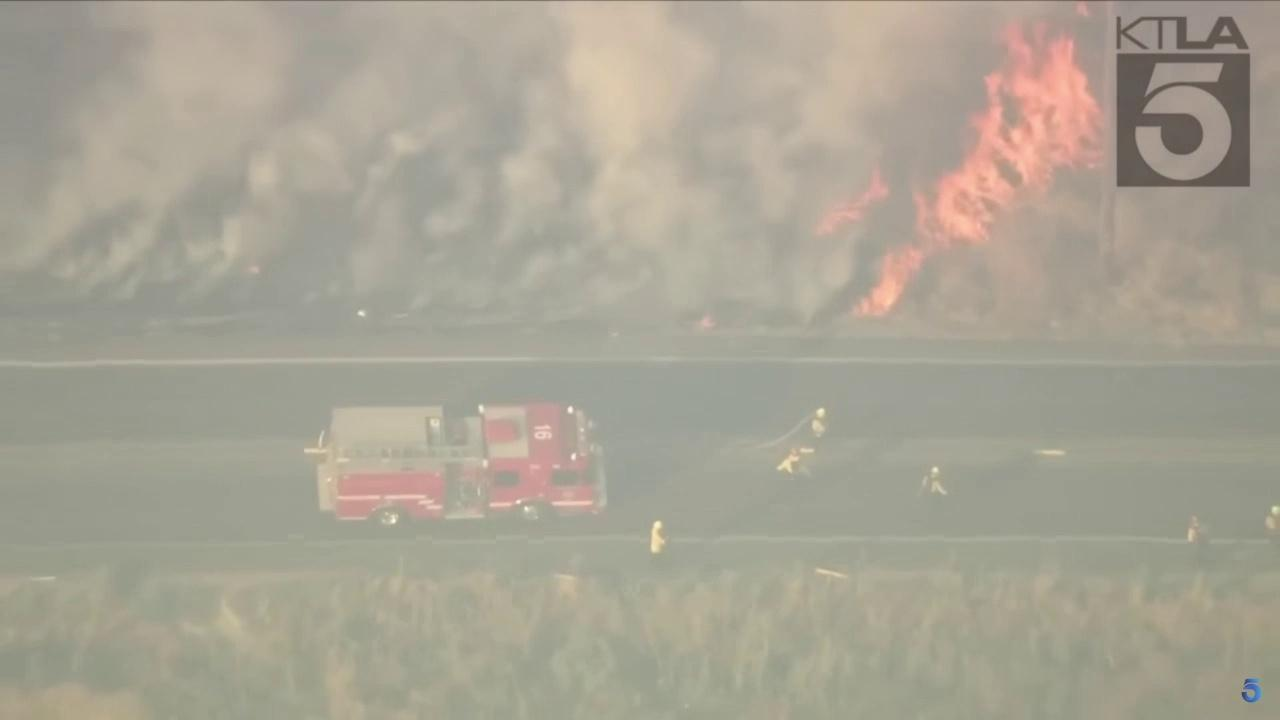fire: (849, 24, 1111, 321), (811, 165, 892, 239), (686, 315, 719, 334), (1075, 0, 1093, 19)
smoke: (0, 0, 1001, 330)
